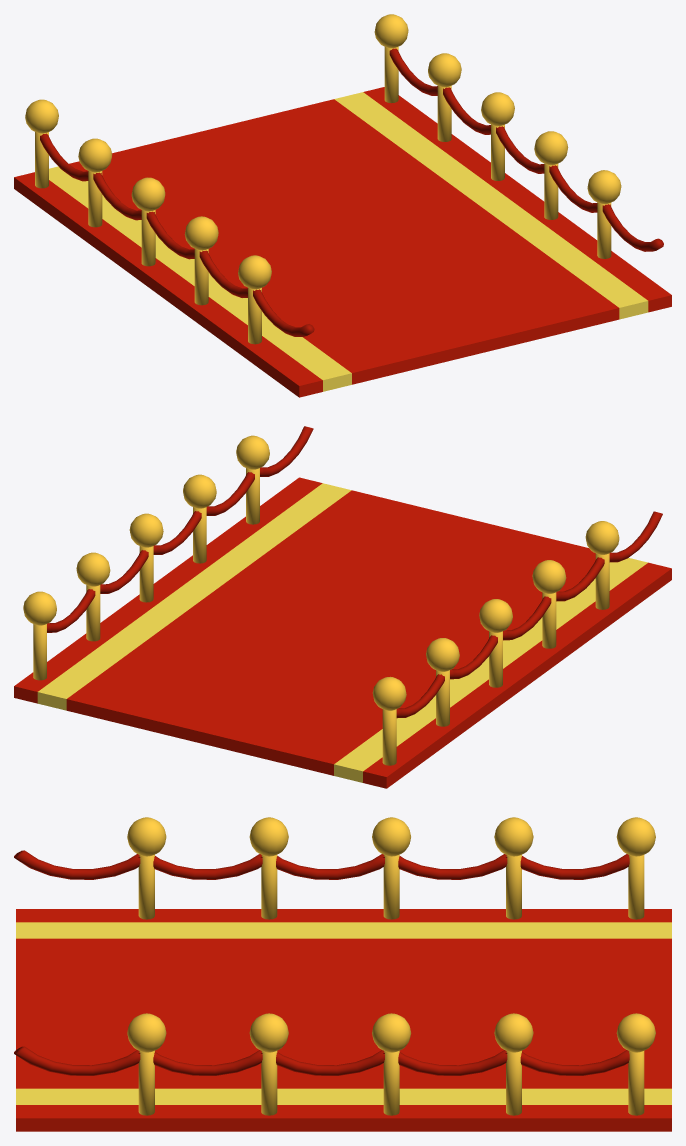
The model's file is RedCarpet.fbx.
3 views of the same model, one above another, from view 1: azimuth 30°, elevation 25°; view 2: azimuth 150°, elevation 25°; view 3: azimuth 270°, elevation 25° (orthographic). The views are drawn at different scales.
Parts seen in each view (by area): view 1: RedCarpet, SideL, SideL.001; view 2: RedCarpet, SideL.001, SideL; view 3: RedCarpet, SideL.001, SideL.
Part boxes in pixels (<box>): RedCarpet: <box>14,87,671,397</box>; SideL: <box>374,14,663,258</box>; SideL.001: <box>25,99,314,344</box>; RedCarpet: <box>14,477,671,788</box>; SideL.001: <box>372,511,662,765</box>; SideL: <box>23,426,313,680</box>; RedCarpet: <box>16,909,671,1131</box>; SideL.001: <box>14,817,655,919</box>; SideL: <box>14,1013,655,1115</box>.
Bounding box in the file's own units: 325 × 79.32 × 425.
